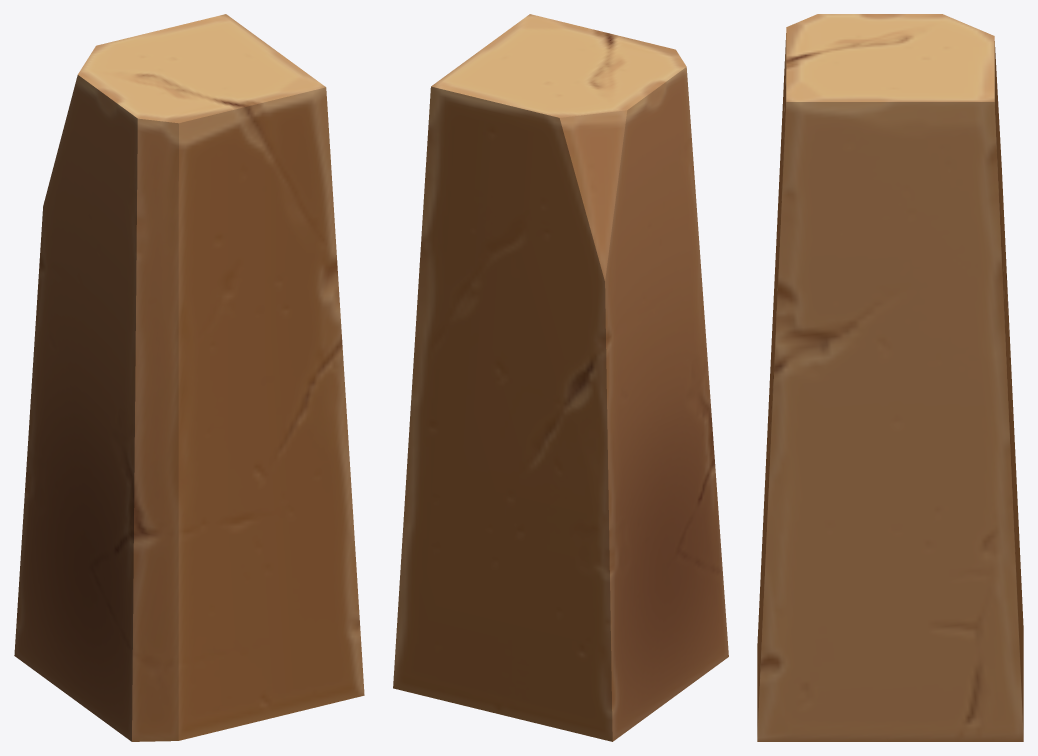
The model's file is Tall Rock_05.fbx.
The picture shows the model from 3 angles, left to right: view 1: azimuth 30°, elevation 25°; view 2: azimuth 150°, elevation 25°; view 3: azimuth 270°, elevation 25°; orthographic projection. The views are drawn at different scales.
Parts seen in each view (by area): view 1: Tall Rock_05; view 2: Tall Rock_05; view 3: Tall Rock_05.
Boxes of the visible parts, box(x1,y1,x2,y2) form: Tall Rock_05: box(14, 14, 364, 741); Tall Rock_05: box(393, 14, 728, 741); Tall Rock_05: box(757, 14, 1023, 741).
Size of the model in its own units: 0.1 by 0.26 by 0.1.
